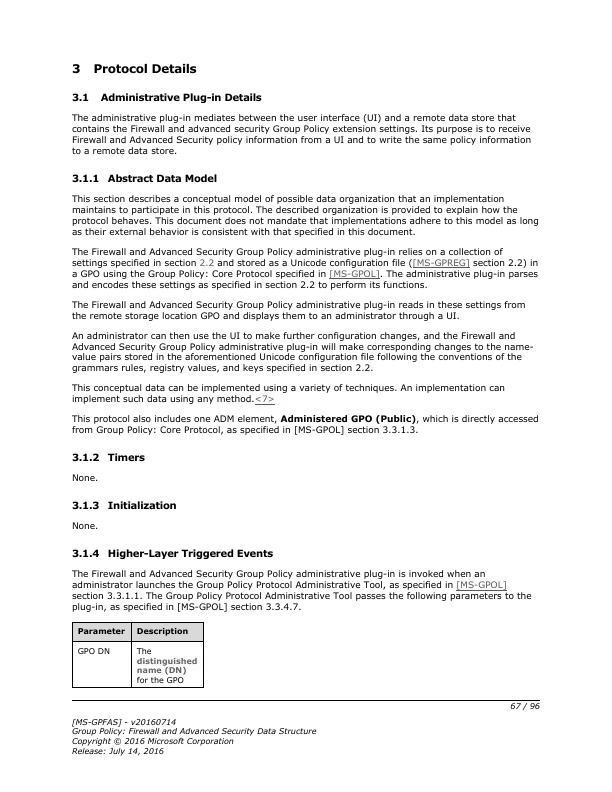table: (72, 622, 205, 688)
text: (68, 110, 535, 157), (69, 566, 534, 612), (69, 192, 540, 236), (69, 246, 539, 290), (70, 330, 535, 372), (69, 412, 541, 436), (67, 713, 319, 757), (69, 298, 526, 322), (70, 381, 506, 406), (68, 546, 277, 560), (69, 91, 264, 103), (69, 172, 221, 186), (69, 59, 201, 75), (69, 499, 178, 512), (69, 449, 145, 465), (69, 470, 99, 485), (69, 520, 99, 532)
